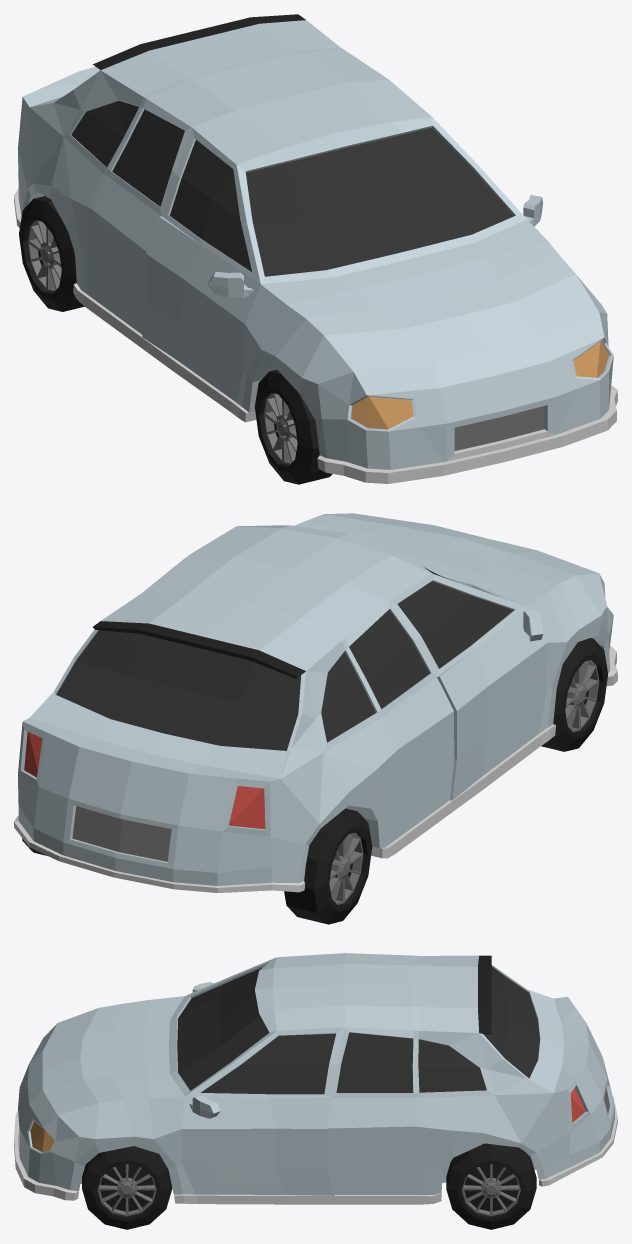
File: NormalCar2.glb
3 views of the same model, one above another, from view 1: azimuth 30°, elevation 25°; view 2: azimuth 150°, elevation 25°; view 3: azimuth 270°, elevation 25° (orthographic). The views are drawn at different scales.
Parts seen in each view (by area): view 1: NormalCar2.obj; view 2: NormalCar2.obj; view 3: NormalCar2.obj.
Part boxes in pixels (x1=…): NormalCar2.obj: x1=14, y1=14, x2=617, y2=484; NormalCar2.obj: x1=14, y1=513, x2=617, y2=924; NormalCar2.obj: x1=14, y1=953, x2=617, y2=1229.
Size of the model in its own units: 1.64 by 1.15 by 3.31.
